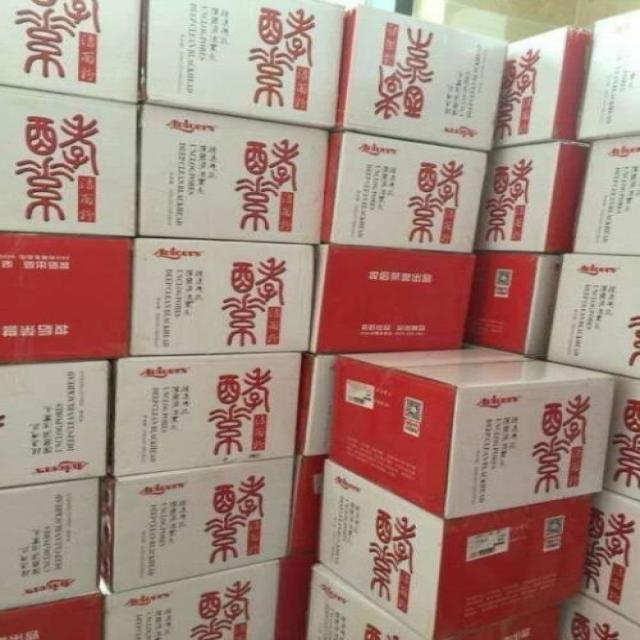box: (330, 344, 617, 520), (319, 458, 594, 639), (138, 103, 330, 245), (100, 456, 294, 595), (142, 0, 344, 129), (337, 5, 508, 152), (113, 351, 301, 477), (131, 236, 312, 357), (0, 86, 140, 236), (323, 132, 486, 252), (311, 243, 479, 354), (0, 232, 133, 366), (104, 559, 282, 639), (0, 361, 111, 488), (0, 477, 101, 610), (474, 141, 590, 251), (493, 25, 593, 148), (547, 252, 640, 380), (465, 249, 563, 355), (307, 564, 430, 640), (576, 9, 640, 142), (572, 135, 640, 255), (584, 489, 640, 627), (0, 592, 102, 640), (604, 376, 640, 500), (445, 605, 568, 640), (297, 352, 337, 458), (561, 593, 640, 639), (278, 552, 319, 639), (292, 455, 326, 556)
